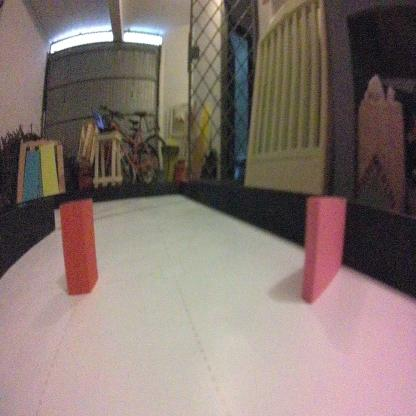magenta: (300, 193, 348, 310)
red: (57, 196, 98, 302)
